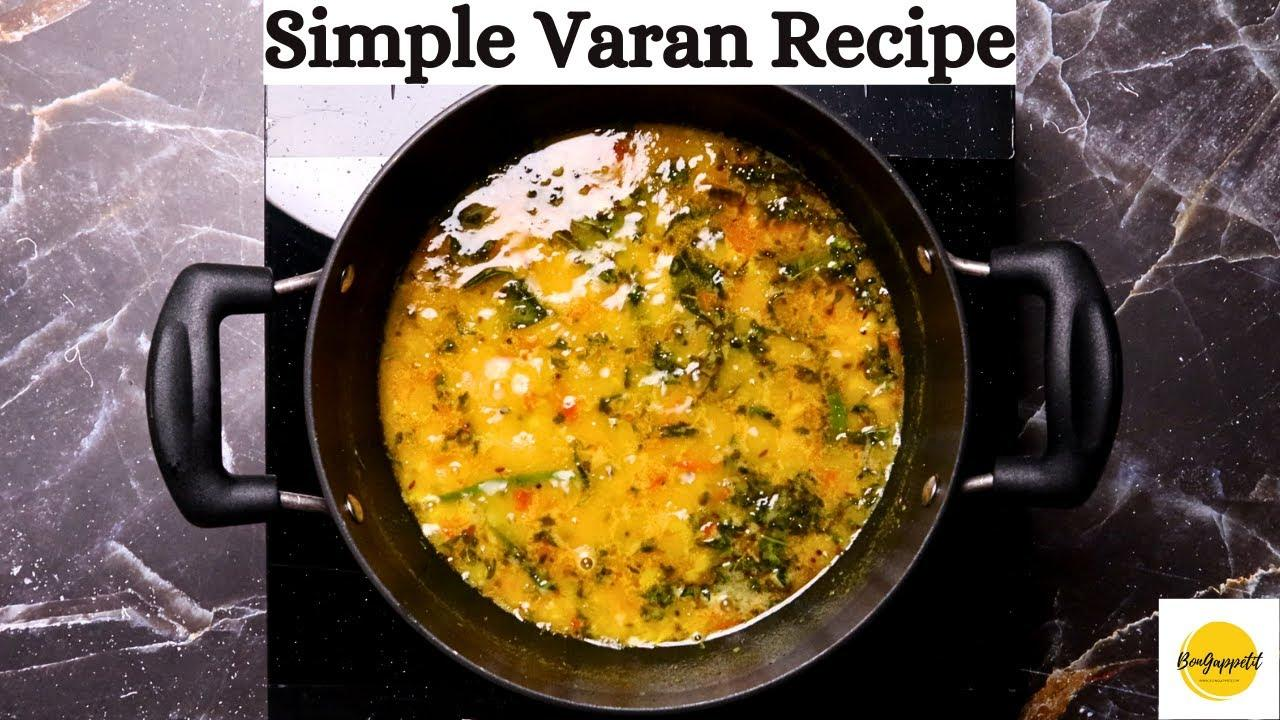varan: (381, 133, 910, 631)
